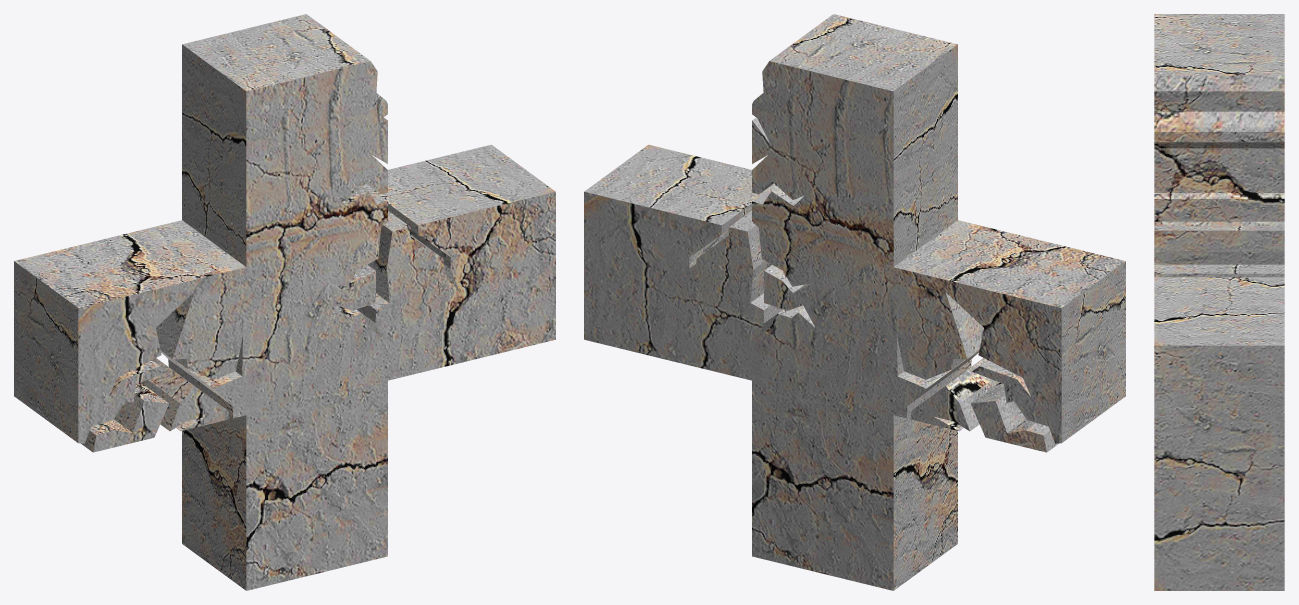
Rendered from Plus.FBX.
3 renders of one model, left to right at view 1: azimuth 30°, elevation 25°; view 2: azimuth 150°, elevation 25°; view 3: azimuth 270°, elevation 25°, orthographic.
Visible parts, largest first — view 1: Plus; view 2: Plus; view 3: Plus.
Boxes of the visible parts, x1,y1,x2,y2 form: Plus: [14, 14, 555, 590]; Plus: [584, 14, 1125, 590]; Plus: [1154, 14, 1284, 590].
Bounding box in the file's own units: 64.26 × 64.26 × 15.
Materials: 1 (1 with a texture image).
